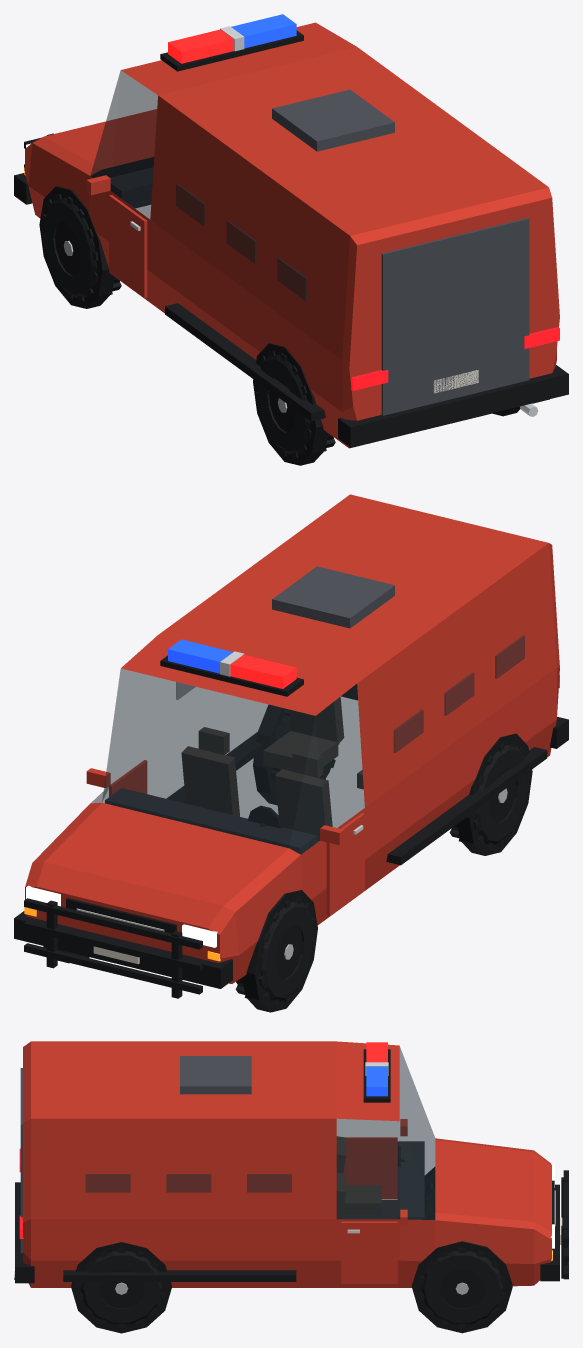
The model's file is swat.glb.
3 views of the same model, one above another, from view 1: azimuth 30°, elevation 25°; view 2: azimuth 150°, elevation 25°; view 3: azimuth 270°, elevation 25° (orthographic). The views are drawn at different scales.
Parts seen in each view (by area): view 1: swat, swat_wheel_fl, swat_wheel_rl, swat_door_fl; view 2: swat, swat_wheel_fl, swat_wheel_rl, swat_door_fl, swat_door_fr; view 3: swat, swat_wheel_fr, swat_wheel_rr, swat_door_fr, swat_door_fl, swat_wheel_fl.
Part boxes in pixels (<box>): swat: <box>14,14,568,465</box>; swat_wheel_fl: <box>42,194,121,301</box>; swat_wheel_rl: <box>256,351,335,458</box>; swat_door_fl: <box>109,195,147,297</box>; swat: <box>14,494,568,1012</box>; swat_wheel_fl: <box>235,897,315,1005</box>; swat_wheel_rl: <box>449,741,529,848</box>; swat_door_fl: <box>326,813,364,915</box>; swat_door_fr: <box>109,760,147,796</box>; swat: <box>14,1041,568,1333</box>; swat_wheel_fr: <box>419,1248,505,1327</box>; swat_wheel_rr: <box>78,1248,164,1327</box>; swat_door_fr: <box>341,1221,397,1283</box>; swat_door_fl: <box>343,1137,397,1199</box>; swat_wheel_fl: <box>424,1182,435,1219</box>.
Size of the model in its own units: 2.6 by 2.8 by 6.19.
